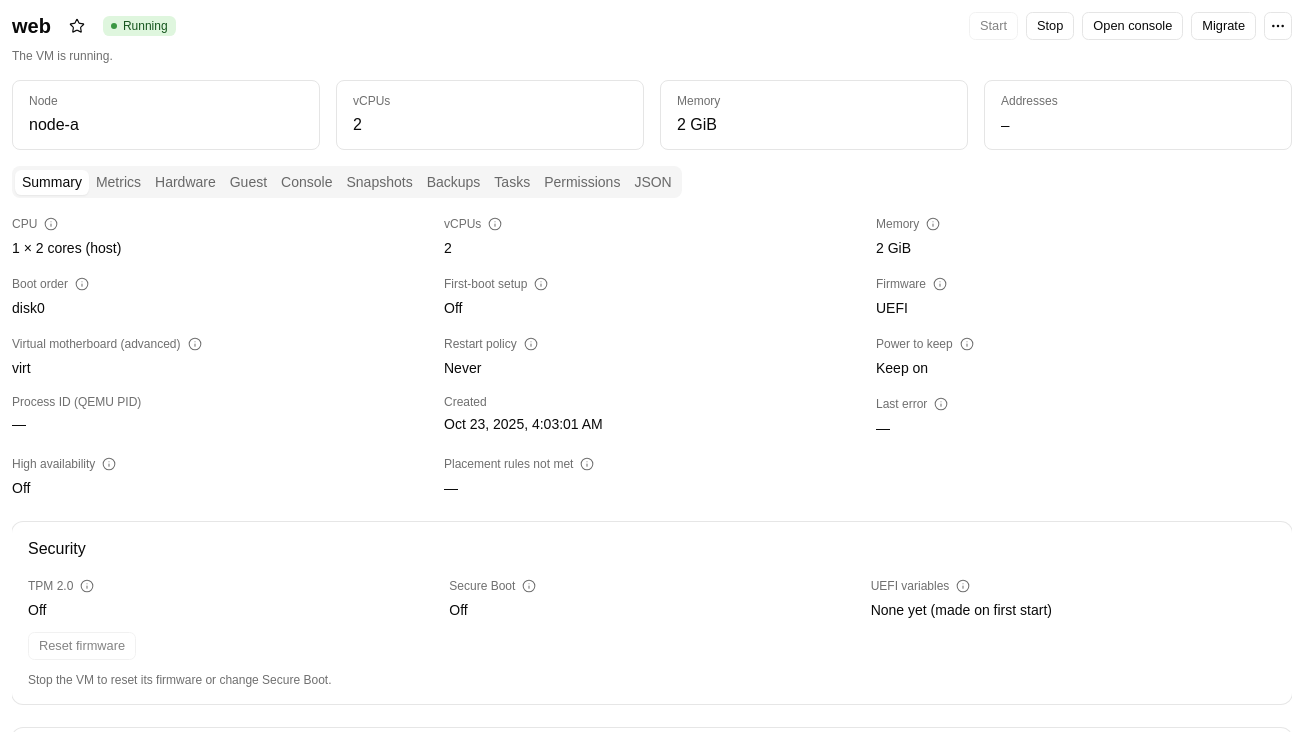
Test case: shows a VM, its hardware and its tasks
Expected: the heading "web" is shown, [12, 12, 51, 40]
Expected: the text "node-a" is shown, [29, 116, 79, 133]
Note: 나머지 동작은 케밥 메뉴에 있다.
Click the button named "Actions for web": x=1278, y=26 [1264, 12, 1292, 40]
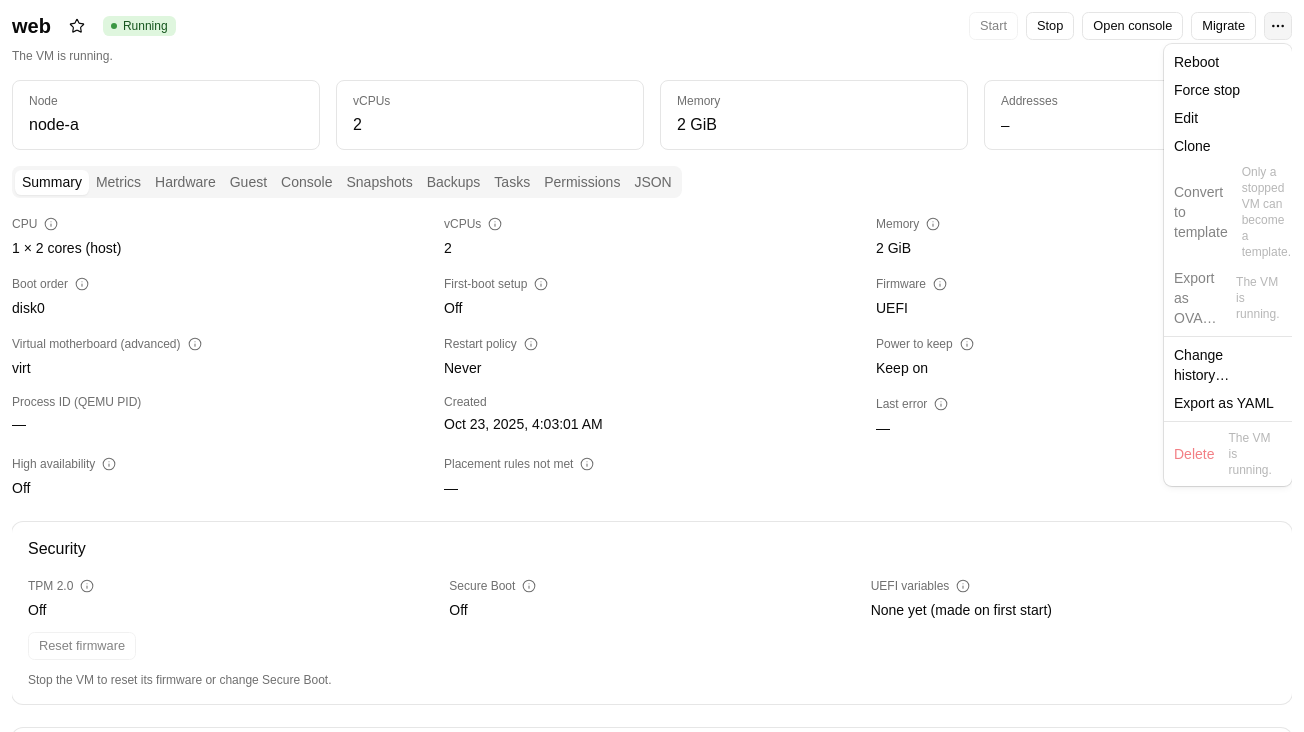
Expected: the menu item "Edit" is shown, [1174, 110, 1198, 126]
Expected: the menu item "Clone" is shown, [1174, 138, 1211, 154]
Press Escape
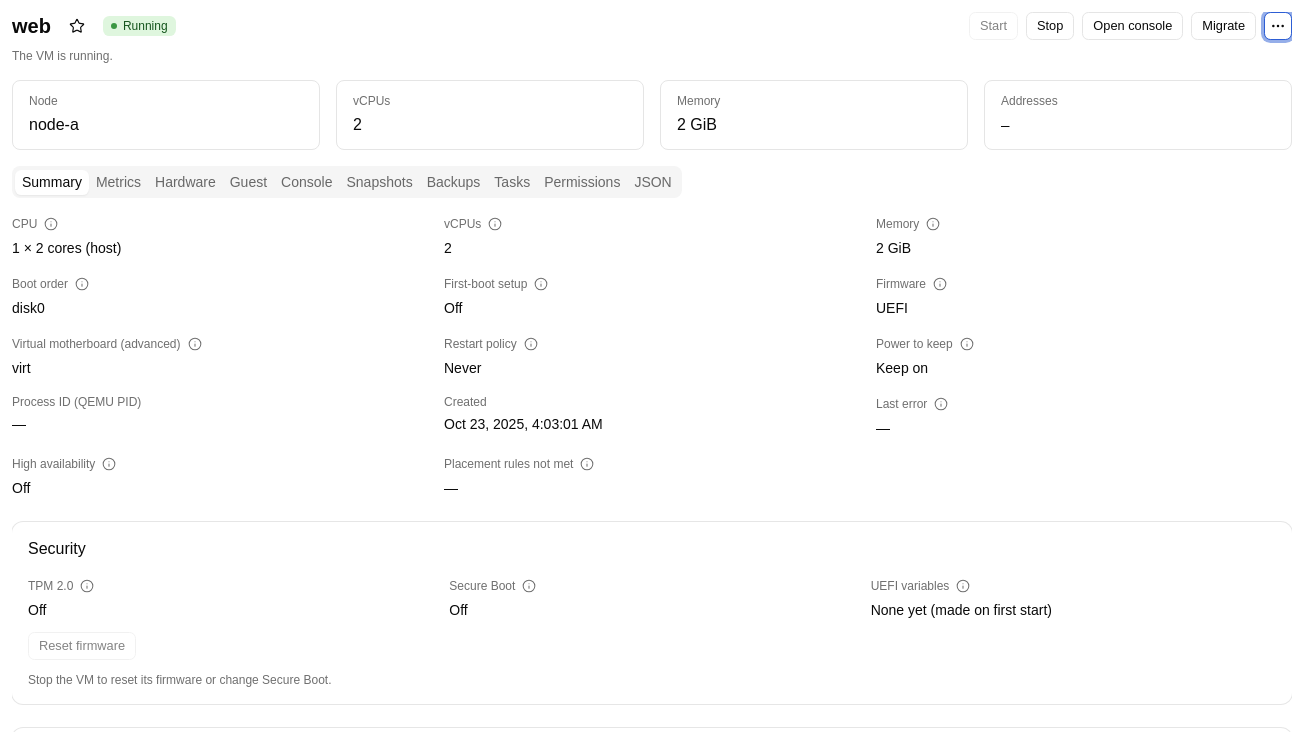
Click the tab "Hardware": x=185, y=182 [148, 170, 223, 194]
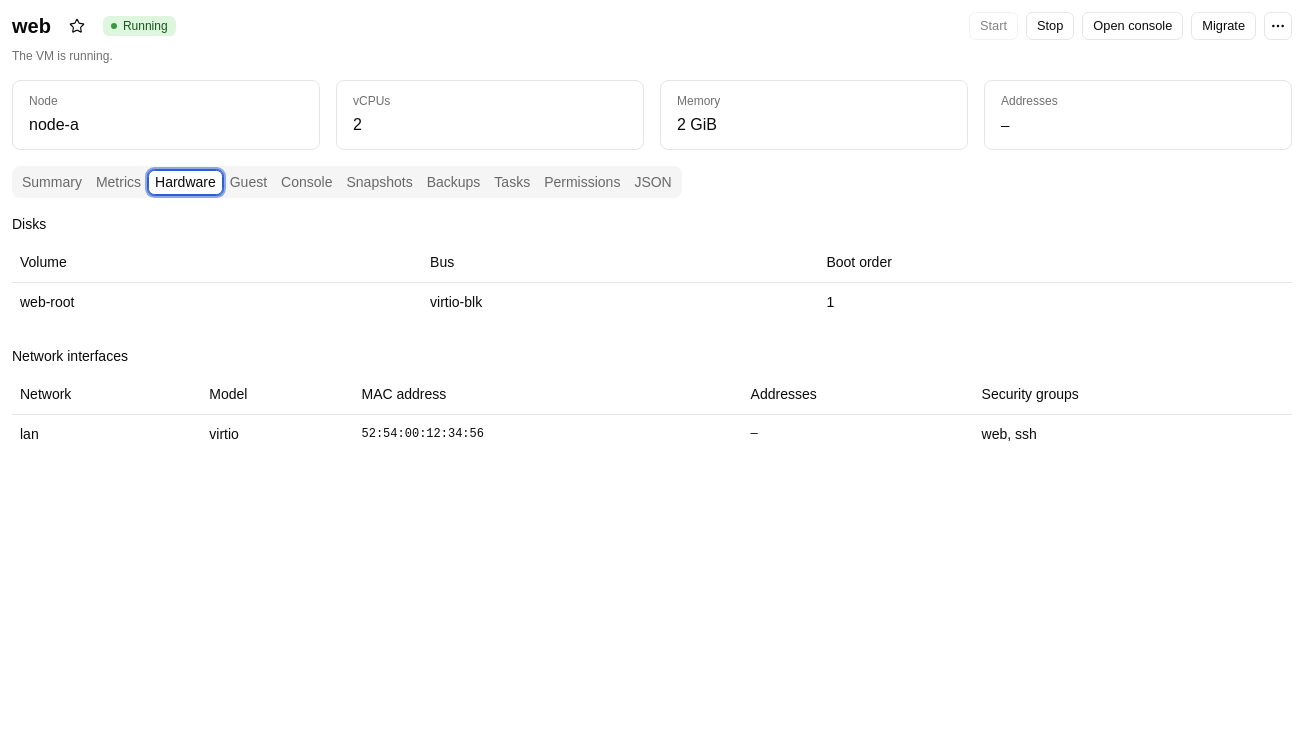
Expected: the text "web-root" is shown, [12, 282, 422, 322]
Expected: the text "52:54:00:12:34:56" is shown, [354, 414, 743, 454]
Expected: the text "web, ssh" is shown, [974, 414, 1292, 454]
Click the tab "Tasks": x=512, y=182 [487, 170, 537, 194]
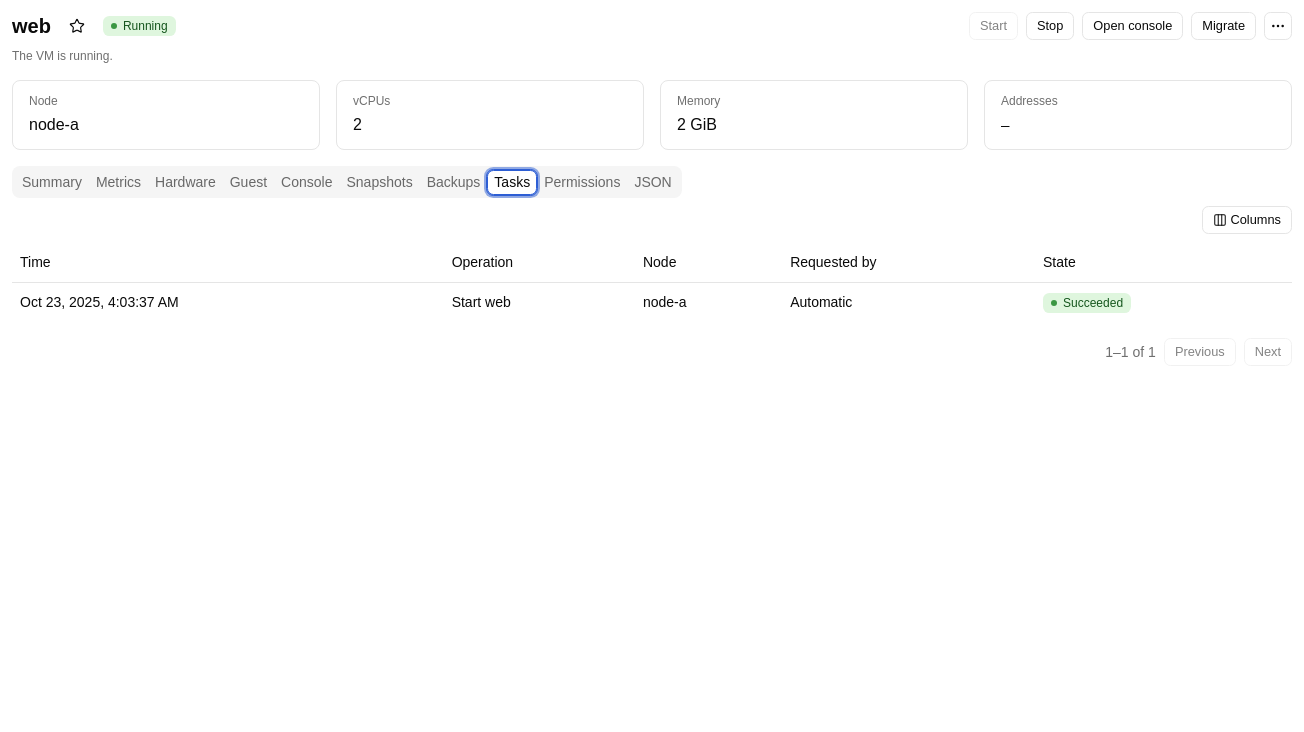
Expected: the link "Start web" is shown, [452, 294, 511, 310]
